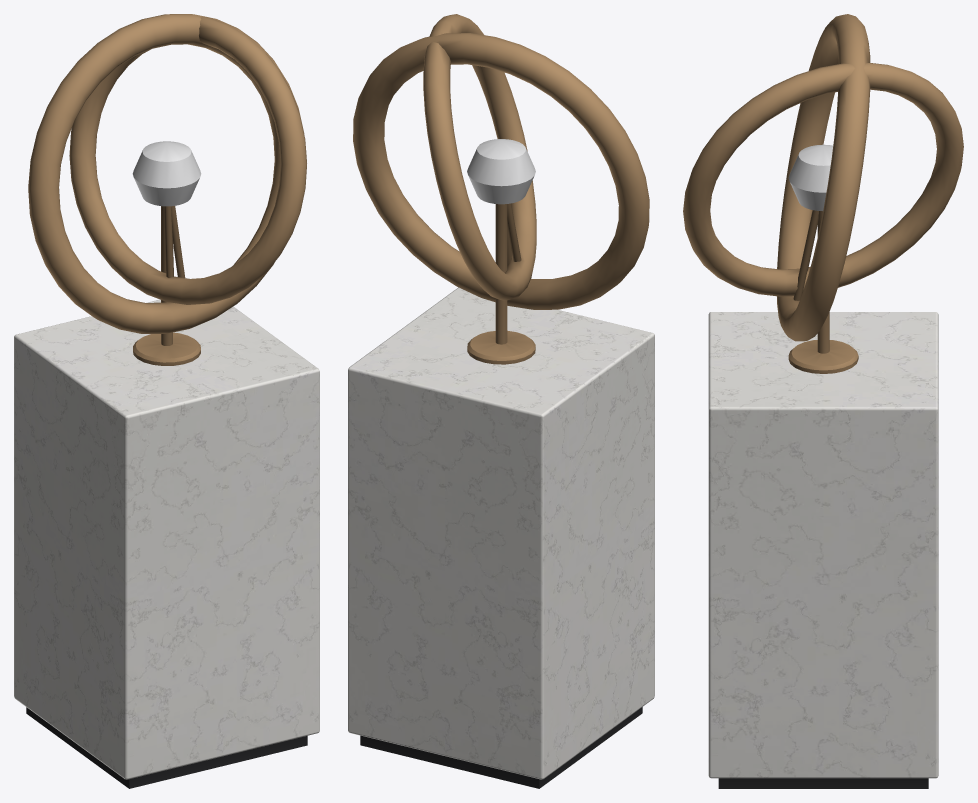
The model's file is living_sculpture.gltf.
3 views of the same model, side by side, from view 1: azimuth 30°, elevation 25°; view 2: azimuth 150°, elevation 25°; view 3: azimuth 270°, elevation 25° (orthographic).
Visible parts, largest first — view 1: LivingSculpture_Plinth, LivingSculpture_RingA, LivingSculpture_RingB, LivingSculpture_Sphere, LivingSculpture_PlinthBase, LivingSculpture_Mount, LivingSculpture_Spoke1; view 2: LivingSculpture_Plinth, LivingSculpture_RingA, LivingSculpture_RingB, LivingSculpture_Sphere, LivingSculpture_Mount, LivingSculpture_PlinthBase; view 3: LivingSculpture_Plinth, LivingSculpture_RingB, LivingSculpture_RingA, LivingSculpture_PlinthBase, LivingSculpture_Mount, LivingSculpture_Sphere, LivingSculpture_Spoke0.
Part boxes in pixels (x1=…): LivingSculpture_Plinth: x1=14, y1=299, x2=319, y2=779; LivingSculpture_RingA: x1=28, y1=14, x2=304, y2=333; LivingSculpture_RingB: x1=69, y1=16, x2=306, y2=304; LivingSculpture_Sphere: x1=132, y1=141, x2=201, y2=206; LivingSculpture_PlinthBase: x1=26, y1=707, x2=307, y2=788; LivingSculpture_Mount: x1=133, y1=206, x2=200, y2=365; LivingSculpture_Spoke1: x1=164, y1=206, x2=173, y2=277; LivingSculpture_Plinth: x1=348, y1=287, x2=654, y2=779; LivingSculpture_RingA: x1=353, y1=33, x2=649, y2=309; LivingSculpture_RingB: x1=423, y1=14, x2=536, y2=300; LivingSculpture_Sphere: x1=467, y1=139, x2=535, y2=204; LivingSculpture_Mount: x1=467, y1=204, x2=535, y2=364; LivingSculpture_PlinthBase: x1=360, y1=707, x2=642, y2=788; LivingSculpture_Plinth: x1=708, y1=312, x2=938, y2=778; LivingSculpture_RingB: x1=683, y1=62, x2=963, y2=296; LivingSculpture_RingA: x1=777, y1=14, x2=870, y2=341; LivingSculpture_PlinthBase: x1=718, y1=778, x2=928, y2=788; LivingSculpture_Mount: x1=788, y1=211, x2=858, y2=373; LivingSculpture_Sphere: x1=788, y1=144, x2=833, y2=210; LivingSculpture_Spoke0: x1=793, y1=210, x2=818, y2=300.
Size of the model in its own units: 0.6616 by 1.58 by 0.5616.
4 materials, 1 textured.
